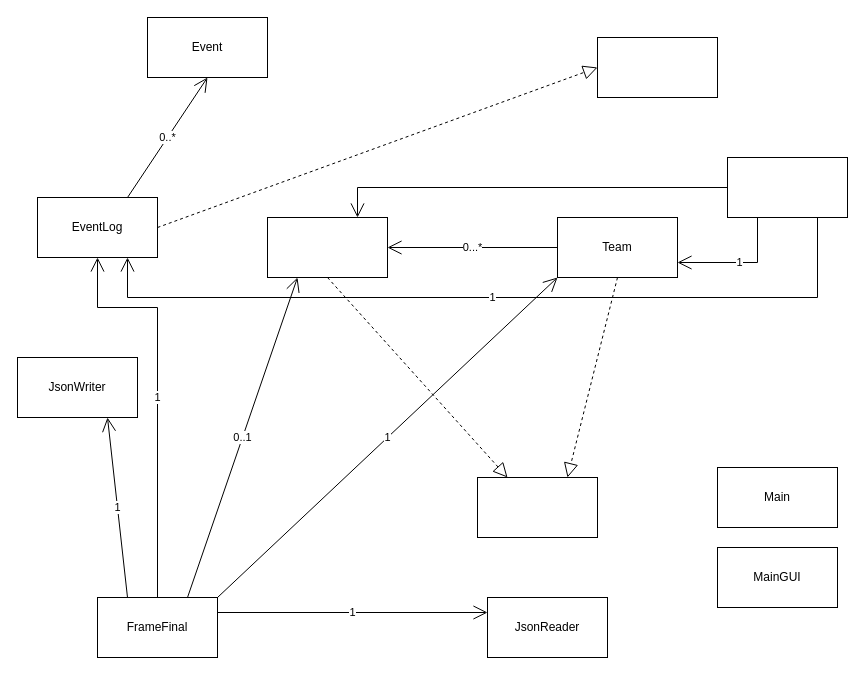
The diagram is 865 pixels wide and 675 high, and some of its shapes have lost their labels. Each missing label, with the box of its shape:
Iterable<Event>: (596, 36, 718, 98)
Player: (266, 216, 388, 278)
TeamTracker: (726, 156, 848, 218)
Writable: (476, 476, 598, 538)
